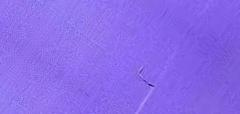snag: (134, 63, 160, 93)
